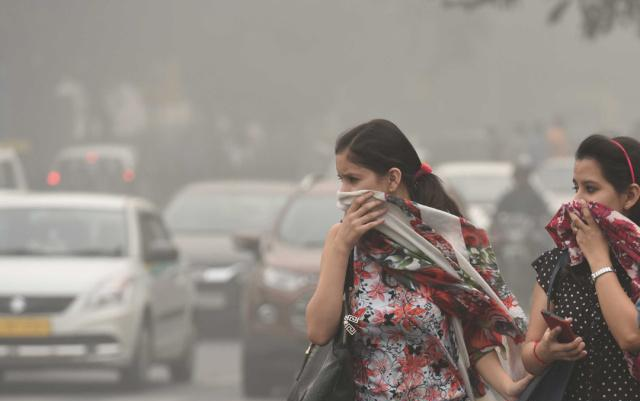car: (228, 172, 486, 396), (1, 188, 197, 391), (151, 176, 313, 332), (423, 157, 545, 273), (530, 154, 624, 258), (42, 143, 143, 233)
person: (305, 118, 534, 401), (521, 132, 640, 400), (484, 153, 549, 272)
